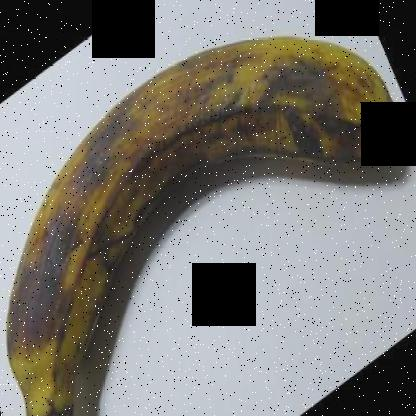rotten: (0, 22, 415, 415)
